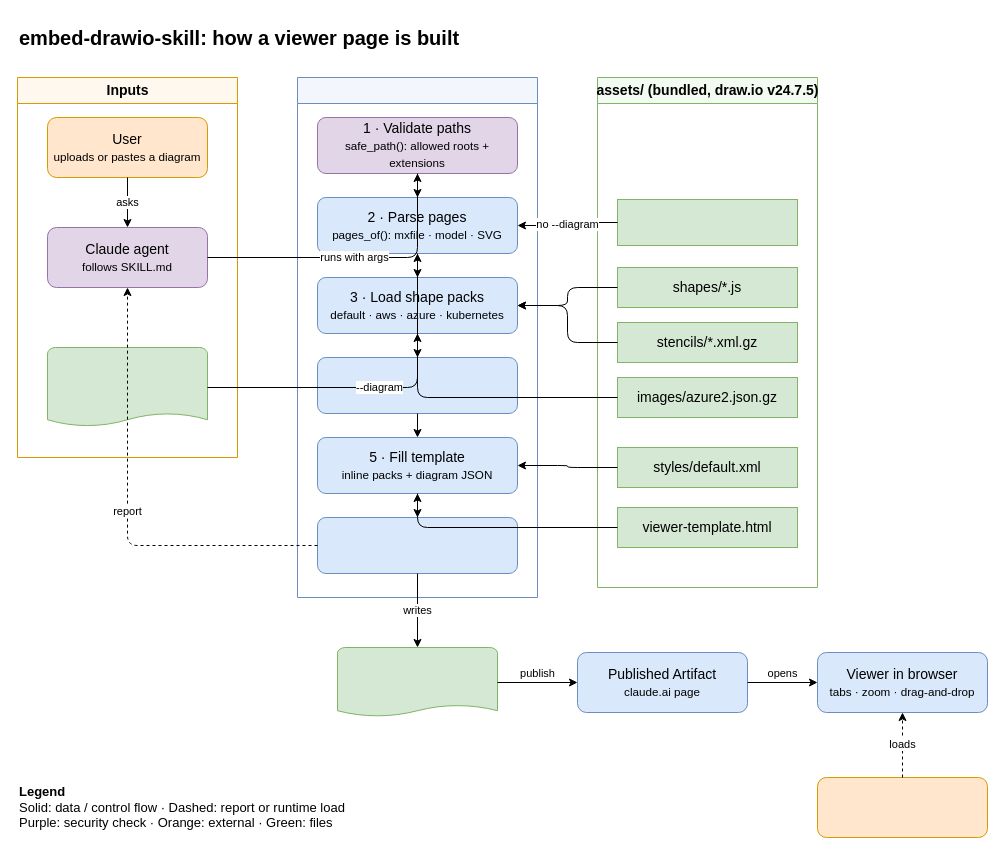
Some shapes in this 1005 by 855 pixel diagram are drawn without their labels. Here are the shapes that lost their labels. From the top down, the box of each, then its label:
(616, 198, 798, 246): sample.drawio 3 example pages
(296, 76, 538, 598): scripts/build_viewer.py
(46, 346, 208, 428): Diagram file .drawio · .dio · .xml · .svg
(316, 356, 518, 414): 4 · Find unsupported shapes unsupported()
(316, 516, 518, 574): 6 · Write HTML + report OUTPUT · SIZE · PAGES · UNSUPPORTED
(336, 646, 498, 718): Viewer HTML self-contained, ~9 MB
(816, 776, 988, 838): CDNs mxGraph 4.2.2 · pako 2.1.0
